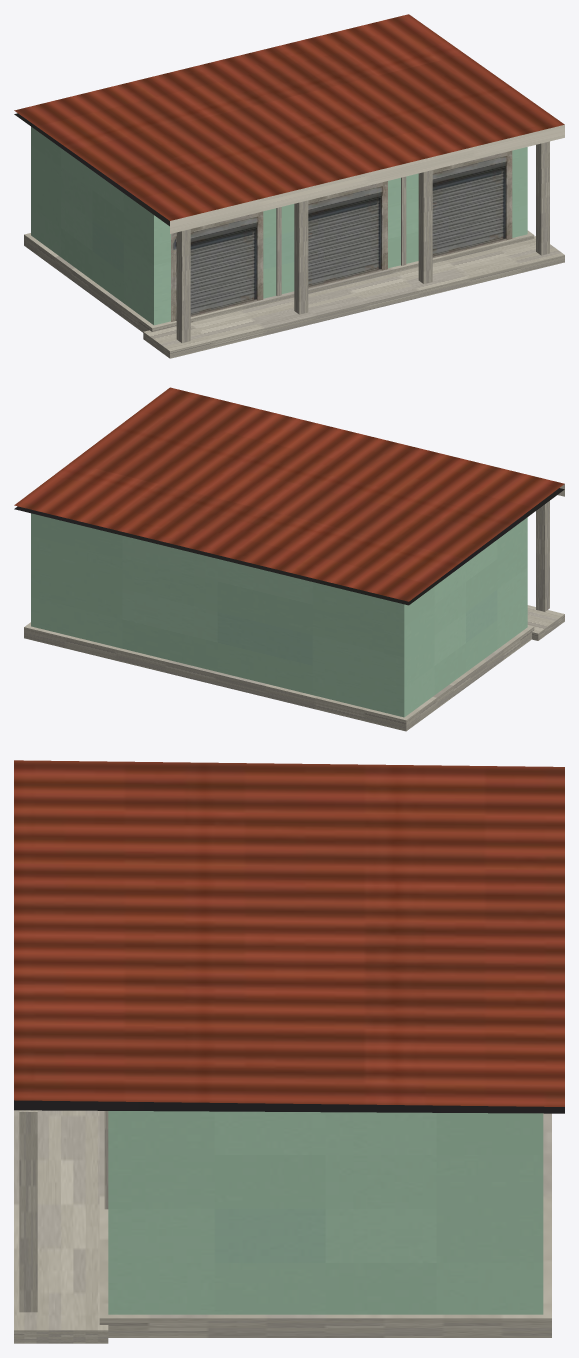
Rendered from shoprow-mint.glb.
3 views of the same model, one above another, from view 1: azimuth 30°, elevation 25°; view 2: azimuth 150°, elevation 25°; view 3: azimuth 270°, elevation 25° (orthographic). The views are drawn at different scales.
Visible parts, largest first — view 1: shoprow-mint; view 2: shoprow-mint; view 3: shoprow-mint.
Boxes of the visible parts, x1,y1,x2,y2 form: shoprow-mint: [14, 14, 564, 358]; shoprow-mint: [14, 387, 564, 731]; shoprow-mint: [14, 760, 564, 1343].
Size of the model in its own units: 11.1 by 3.7 by 7.6.
Materials: 1 (1 with a texture image).
